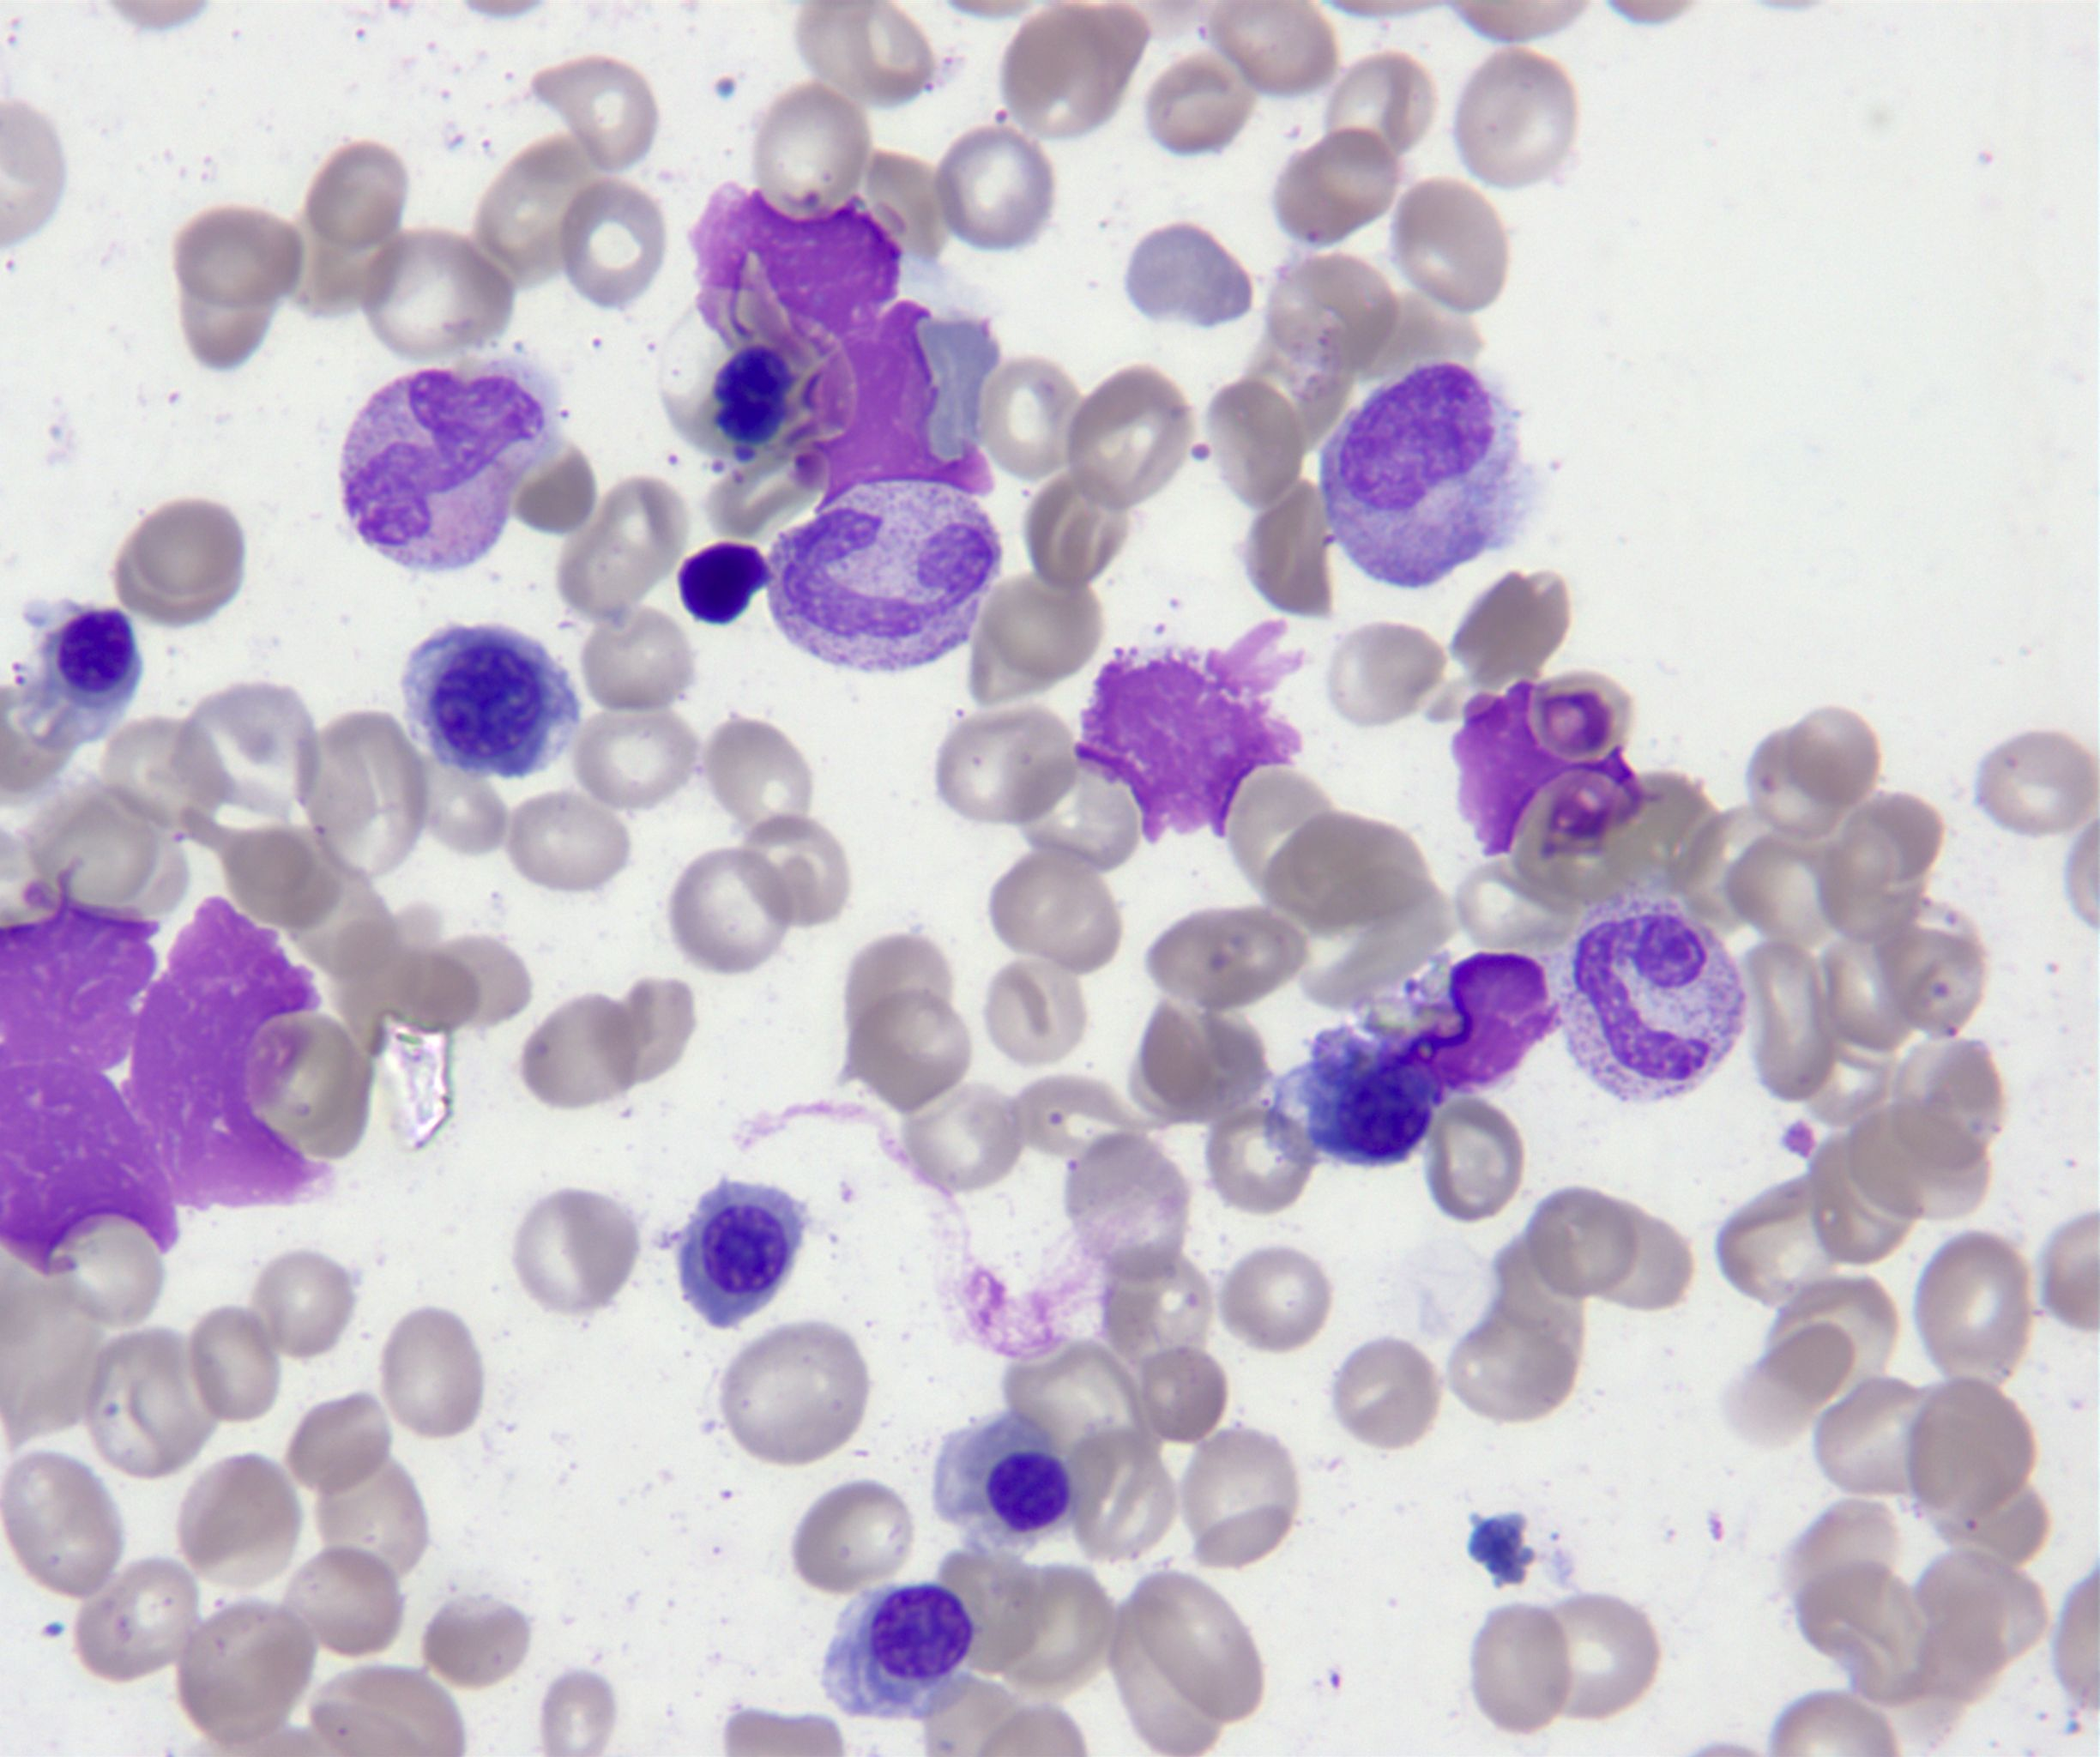24: (659, 286, 856, 462), (399, 625, 584, 776), (1268, 1031, 1439, 1166), (823, 1586, 977, 1720), (9, 598, 145, 747), (933, 1410, 1071, 1553), (678, 1181, 804, 1326)
4: (1322, 358, 1528, 588)
5: (342, 356, 562, 574), (1547, 892, 1748, 1104)
6: (764, 478, 1001, 672)
x: (119, 897, 328, 1209), (1073, 619, 1303, 841), (792, 300, 994, 513), (685, 183, 905, 358), (0, 1066, 181, 1274), (1451, 677, 1648, 858), (0, 857, 155, 1075), (1364, 953, 1563, 1092)
